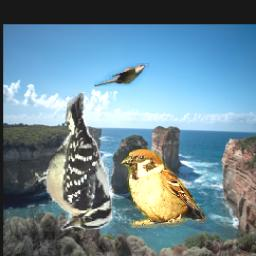Cuckoo: (94, 63, 149, 86)
Sparrow: (120, 148, 205, 229)
Woodpecker: (24, 94, 115, 233)
